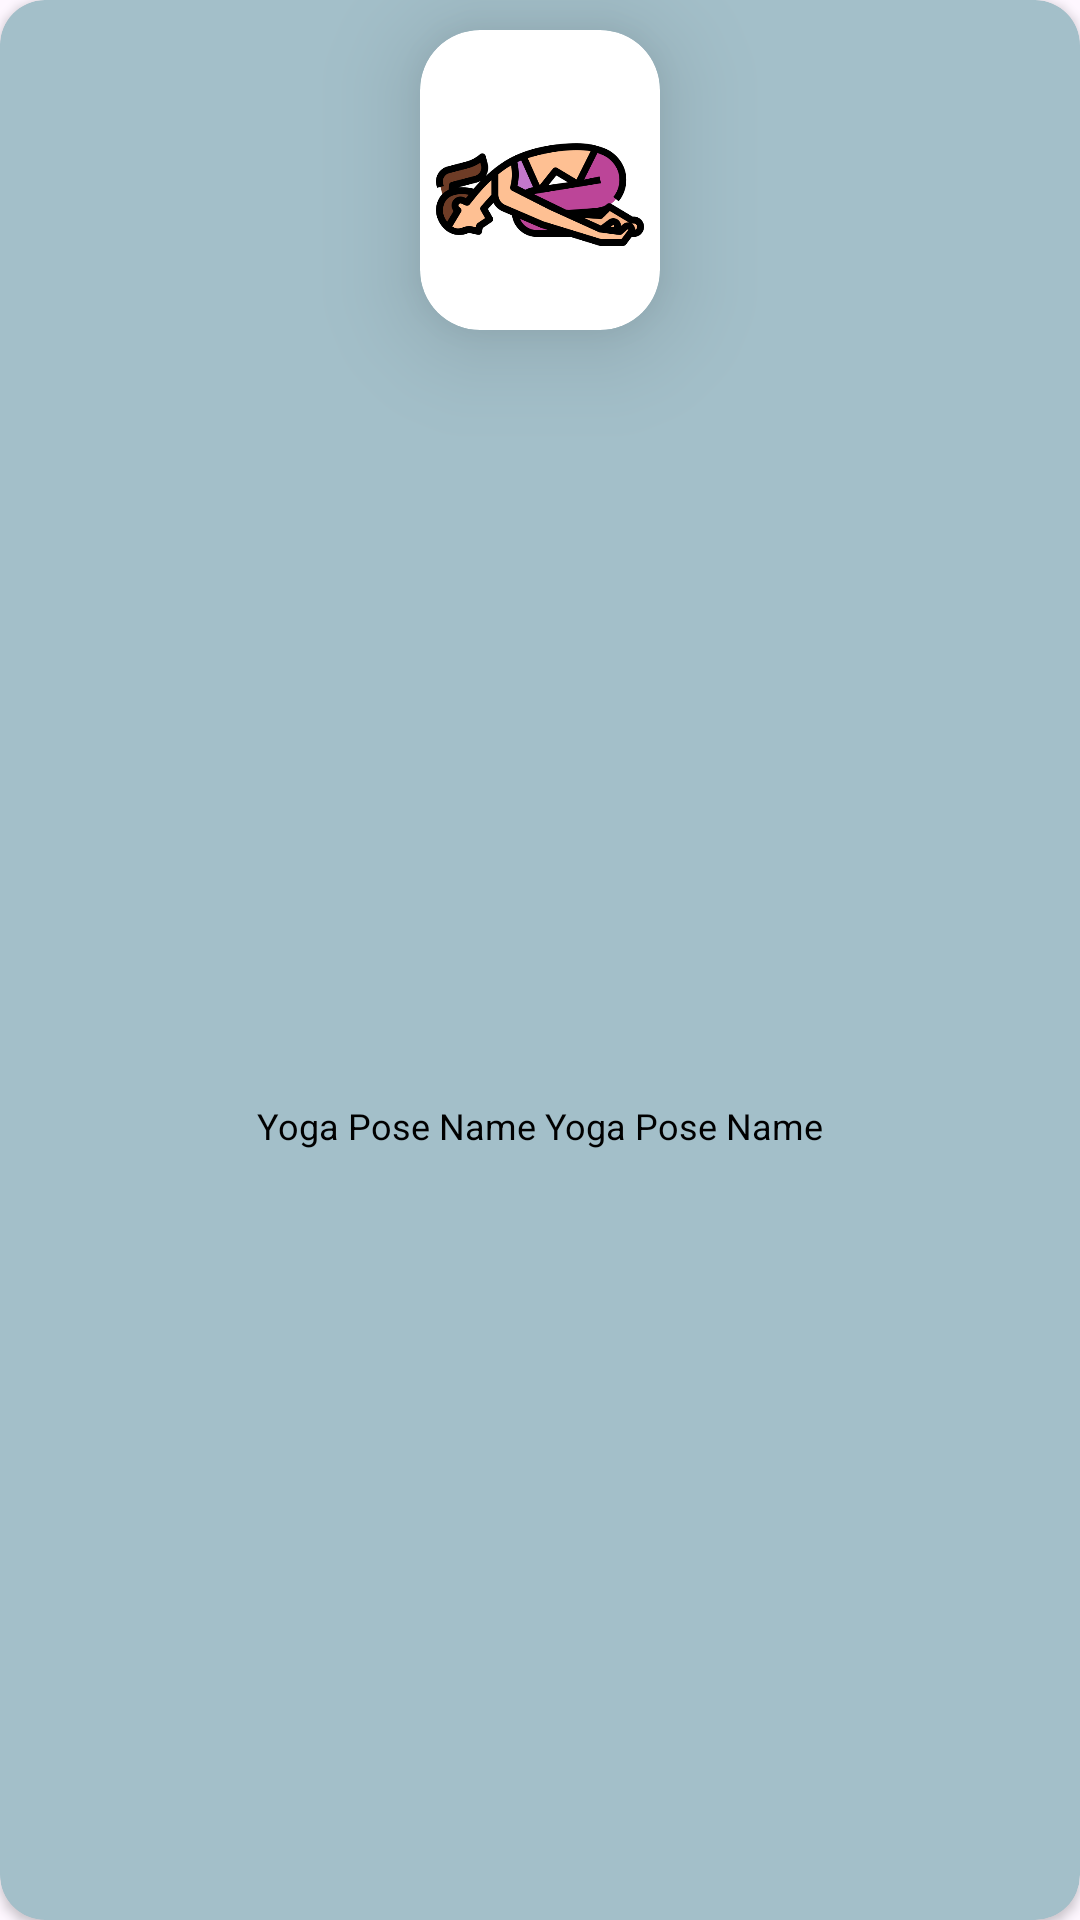

Icon bounding boxes for this 1080 × 1920 phone screenshot, format (x1, y1, x2, y2):
child: (420, 30, 660, 330)
